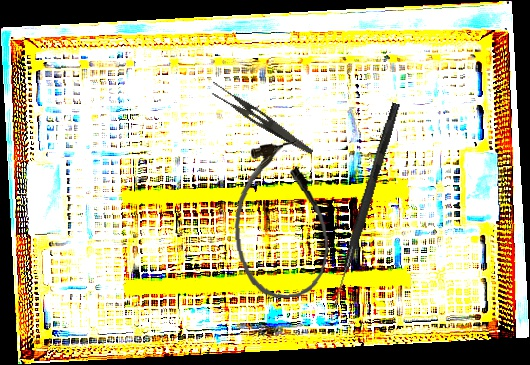Cannula: (227, 139, 334, 302)
Dressing Forceps: (204, 79, 321, 156)
Hook Surgical: (330, 101, 401, 310)
